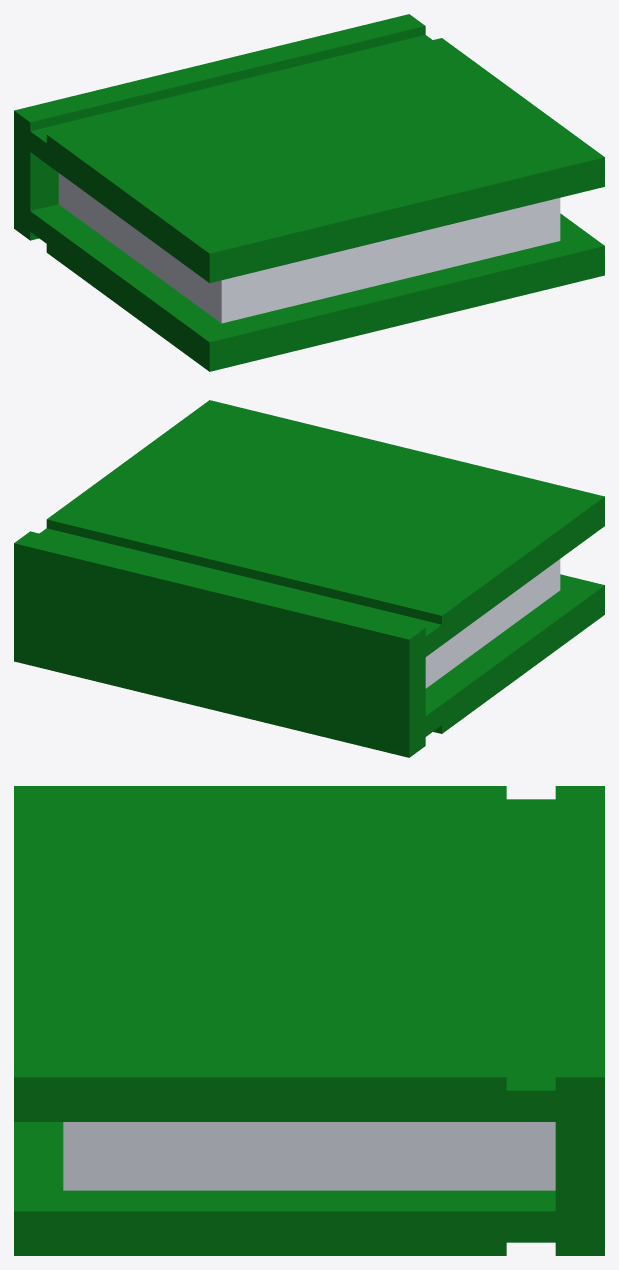
Rendered from Book3.fbx.
3 views of the same model, one above another, from view 1: azimuth 30°, elevation 25°; view 2: azimuth 150°, elevation 25°; view 3: azimuth 270°, elevation 25° (orthographic). The views are drawn at different scales.
Visible parts, largest first — view 1: mergedBlocks; view 2: mergedBlocks; view 3: mergedBlocks.
Part boxes in pixels (x1,y1,x2,y2): mergedBlocks: [14, 14, 604, 371]; mergedBlocks: [14, 400, 604, 757]; mergedBlocks: [14, 786, 604, 1255].
Size of the model in its own units: 5.6 by 1.6 by 4.8.
